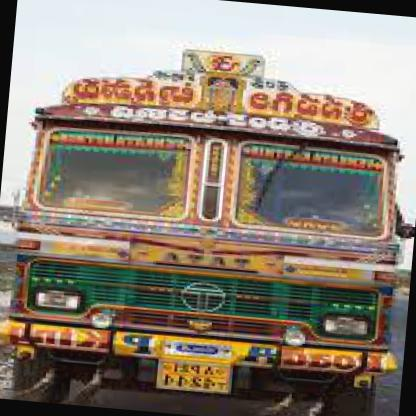truck: (5, 34, 415, 416)
